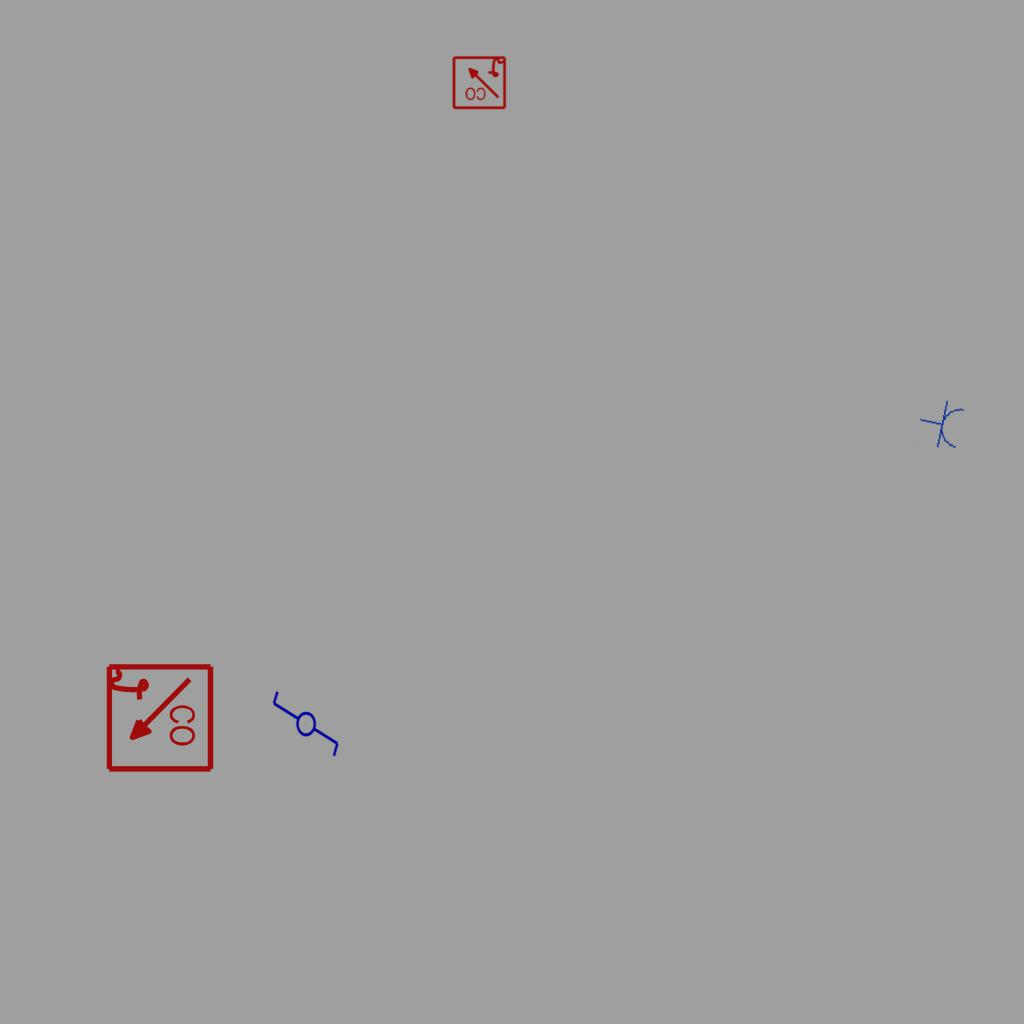ROA_Rauchmelder_optisch_mit_Signalgeber_(Sockelsirene): (102, 662, 215, 775), (451, 54, 507, 110)
Schukosteckdose_einfach: (914, 395, 968, 454)
Wechselschalter: (269, 689, 341, 767)
